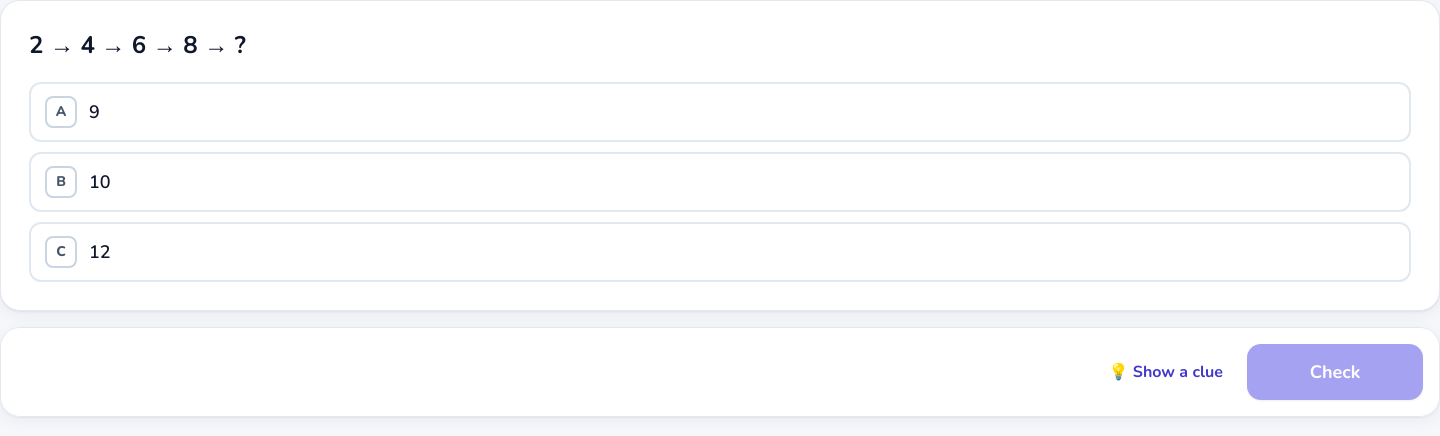
Test: QuestionActivity › shows a friendly message if the network fails, and lets the student retry
The image size is (1440, 436).
Click the radio button labelled "10" at (61, 182), box [29,152,1411,212]
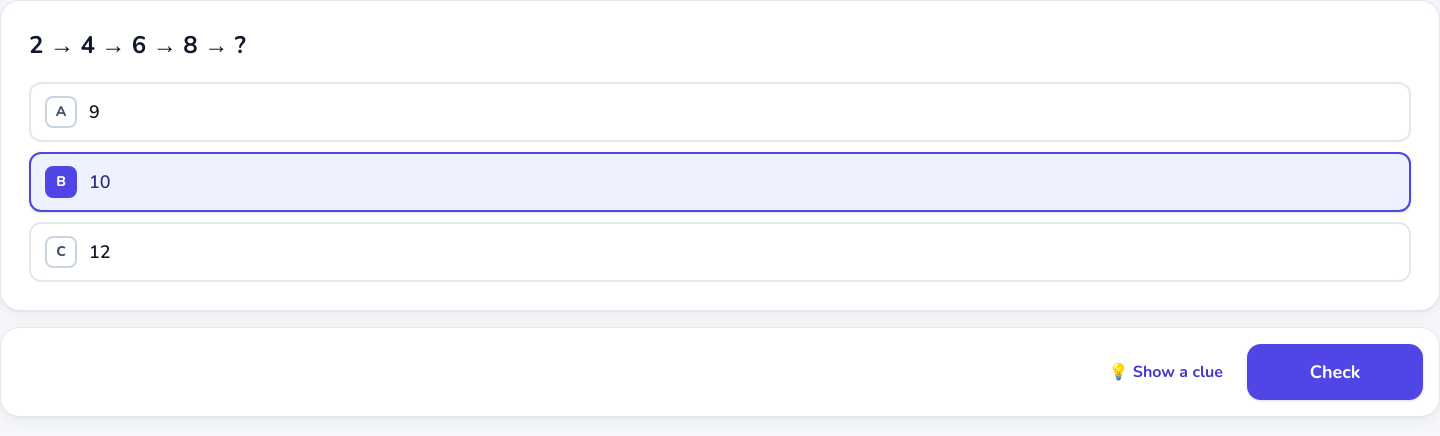
Click the button "Check" at (1335, 372), box [1247,344,1423,400]
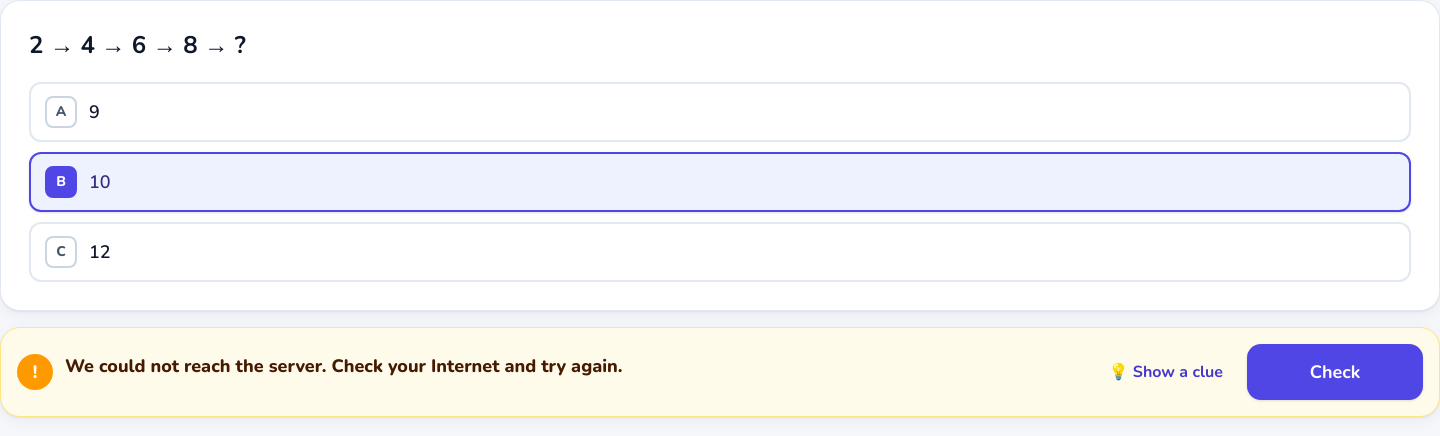
Expected: the button "Check" is enabled, [1247,344,1423,400]
Expected: the message shows "could not reach the server", [65,354,622,378]
